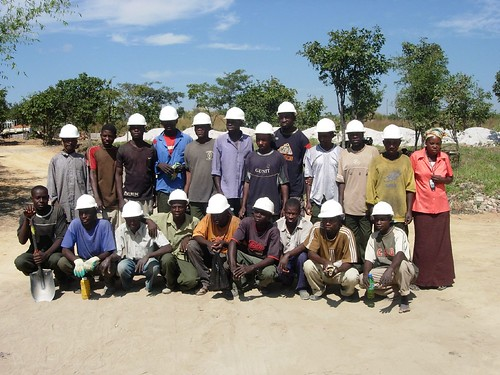person hardhat: (372, 120, 419, 260), (366, 206, 420, 312), (309, 199, 357, 314), (303, 117, 354, 224), (193, 192, 245, 294), (156, 185, 205, 289), (110, 201, 163, 296), (63, 193, 112, 292), (115, 111, 161, 213), (271, 97, 312, 210), (245, 121, 293, 214), (218, 101, 259, 207), (180, 106, 223, 207), (338, 117, 376, 230), (46, 124, 88, 226), (153, 101, 194, 205), (243, 197, 283, 299), (275, 196, 309, 299)
